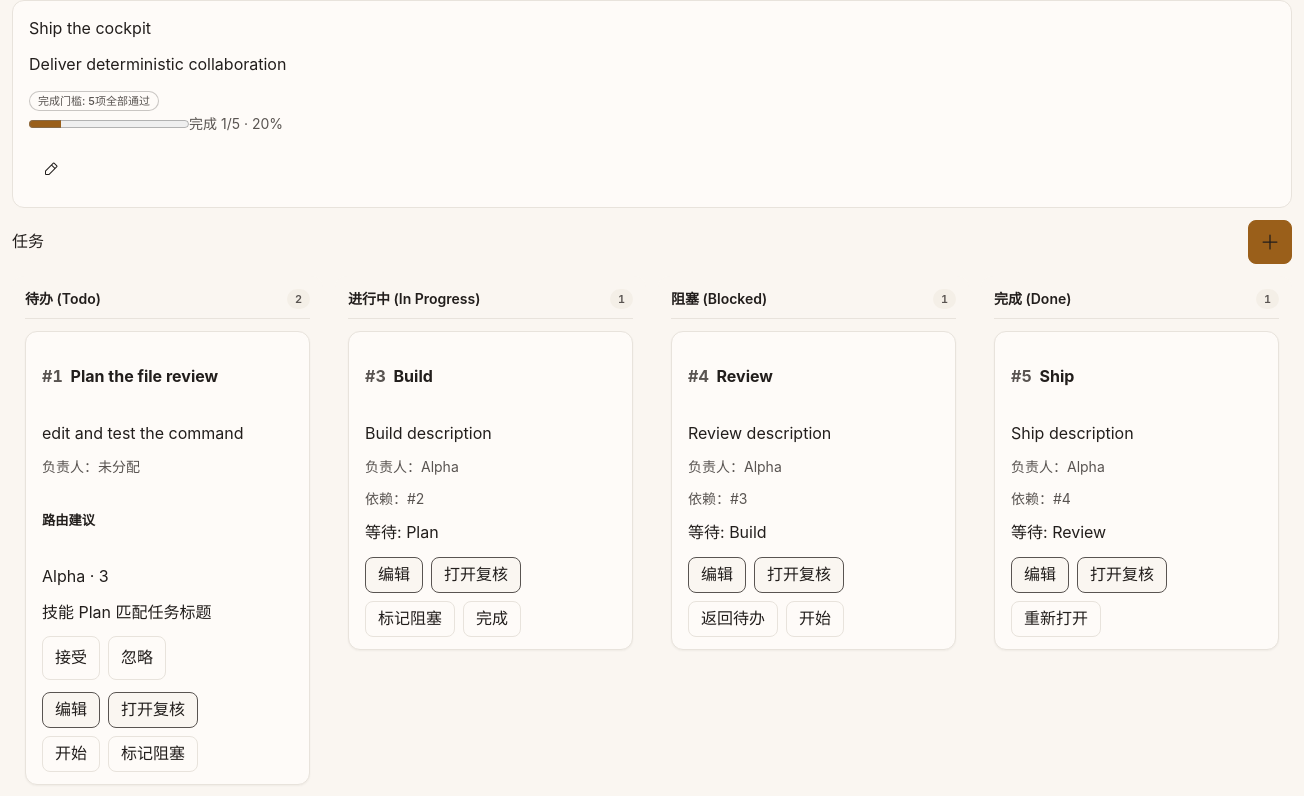
Test case: mission board capability insight › shows portraits and lets accept prefill the card assignee without saving
Check: the list item "Plan the file review" is shown, box [25,331,310,785]
Check: the text "技能 Plan 匹配任务标题" is shown, box [42,601,212,624]
Click the button "接受": (71, 658) [42,636,100,680]
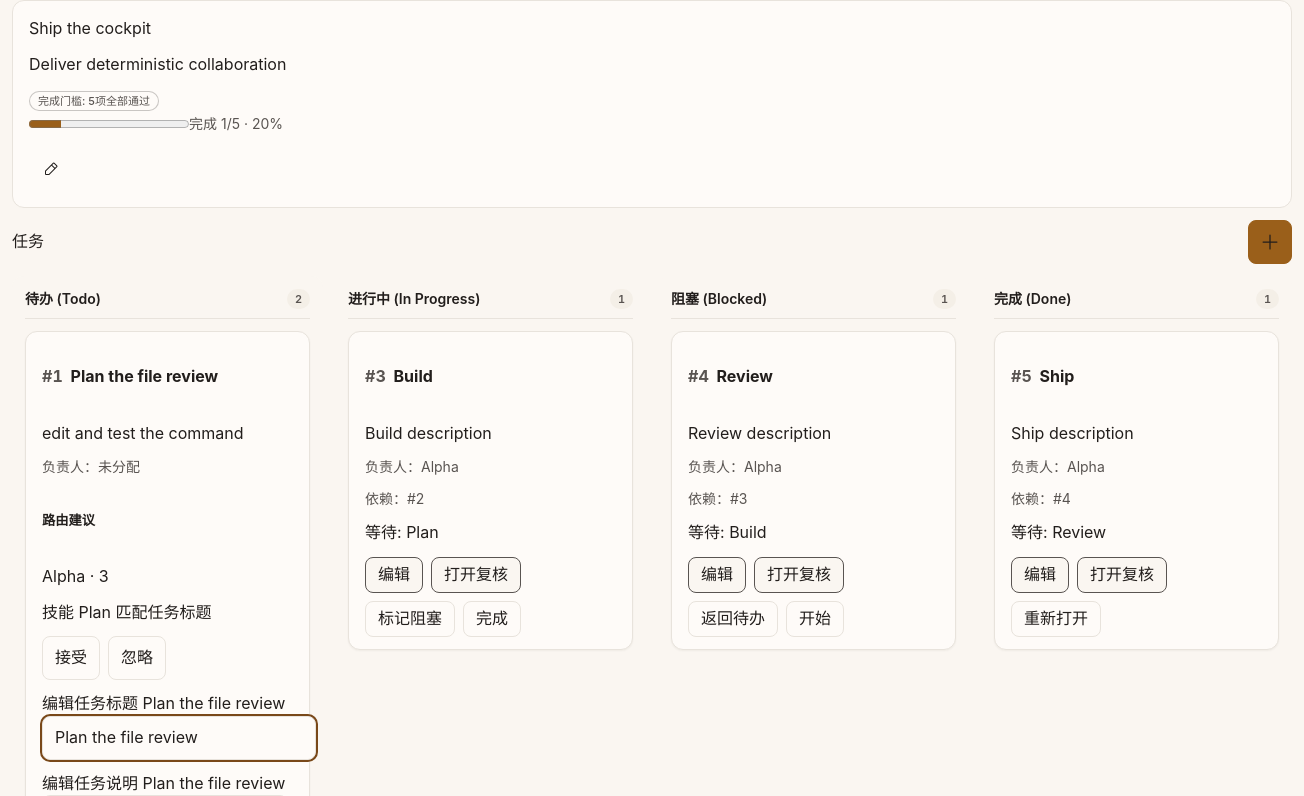
Click the button "忽略": (137, 658) [108,636,166,680]
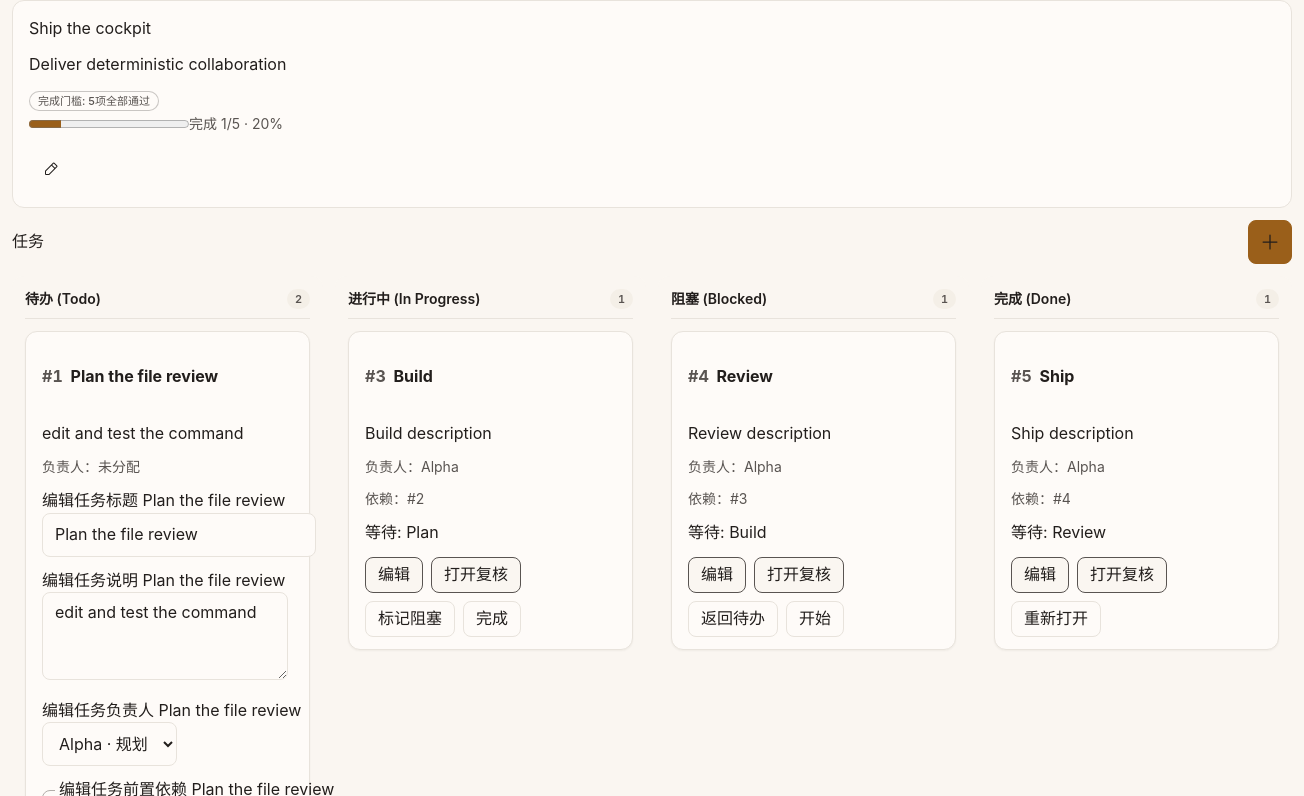
Check: the heading "路由建议" is gone
